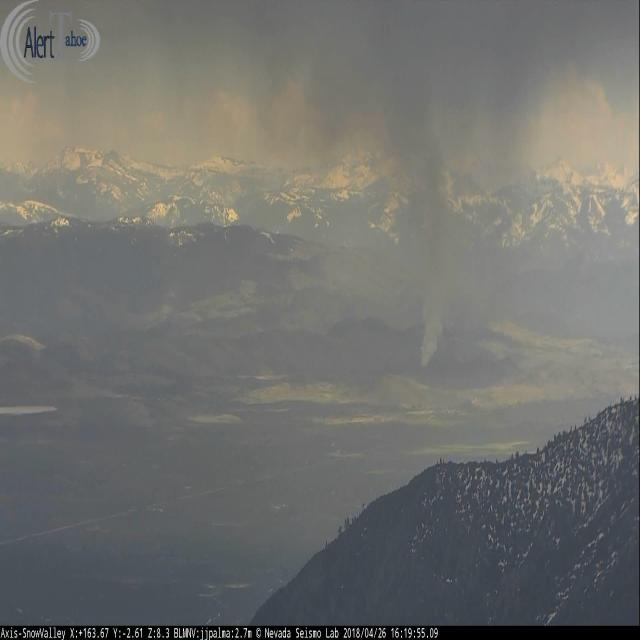smoke: (398, 136, 476, 368)
